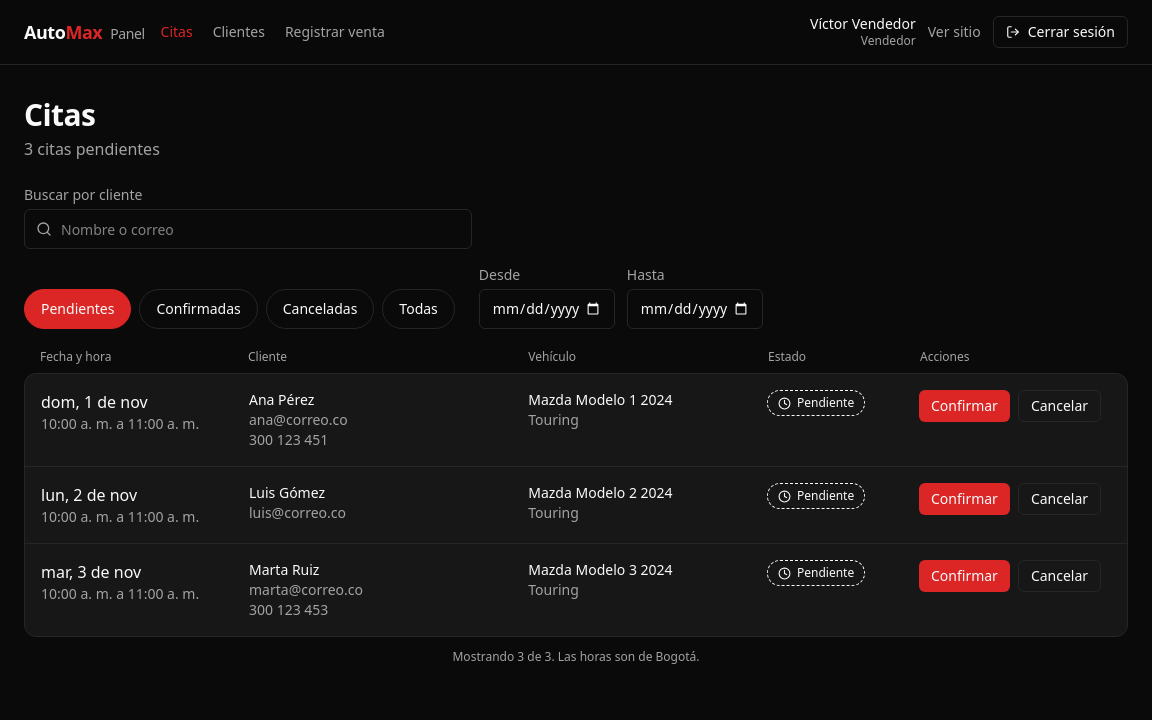
Scenario: lista de citas › búsqueda por cliente › con menos de 3 caracteres no consulta y avisa; con 3 sí
Expected: the list named "Citas" is shown, [24,373,1128,637]
In the search field labelled "Buscar por cliente": (248, 229) [24,209,472,249], type "an"
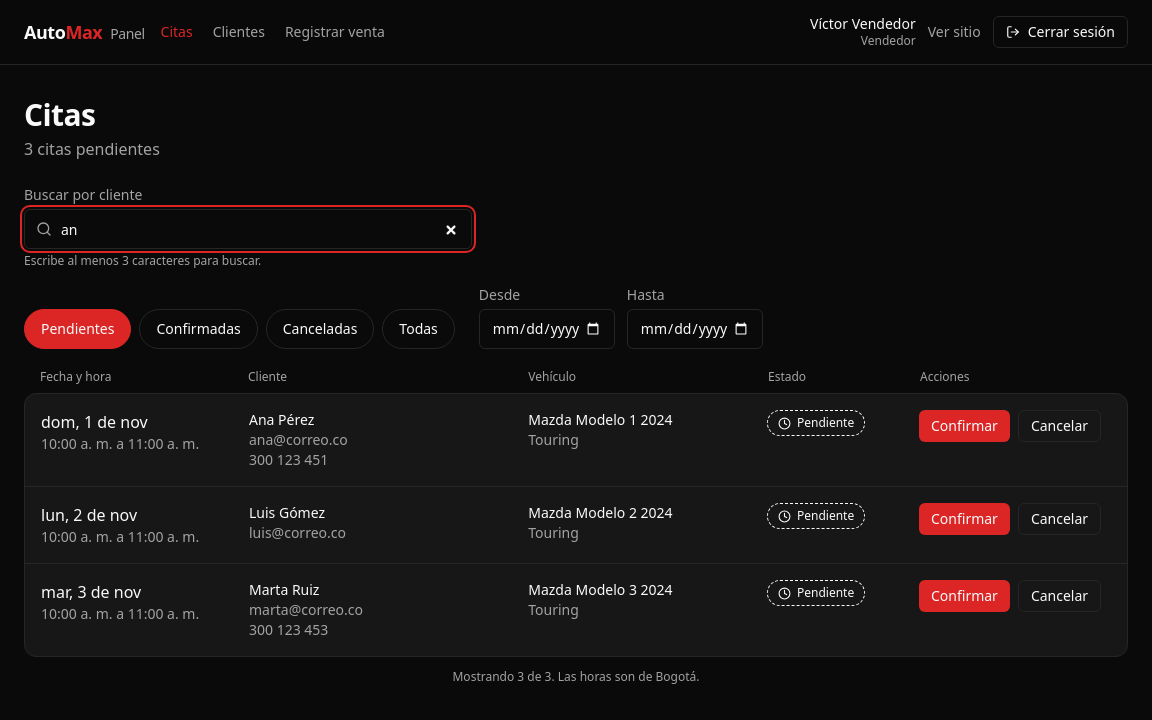
Expected: the text "Escribe al menos 3 caracteres para buscar." is shown, [24,252,261,269]
In the search field labelled "Buscar por cliente": (248, 229) [24,209,472,249], type "a"
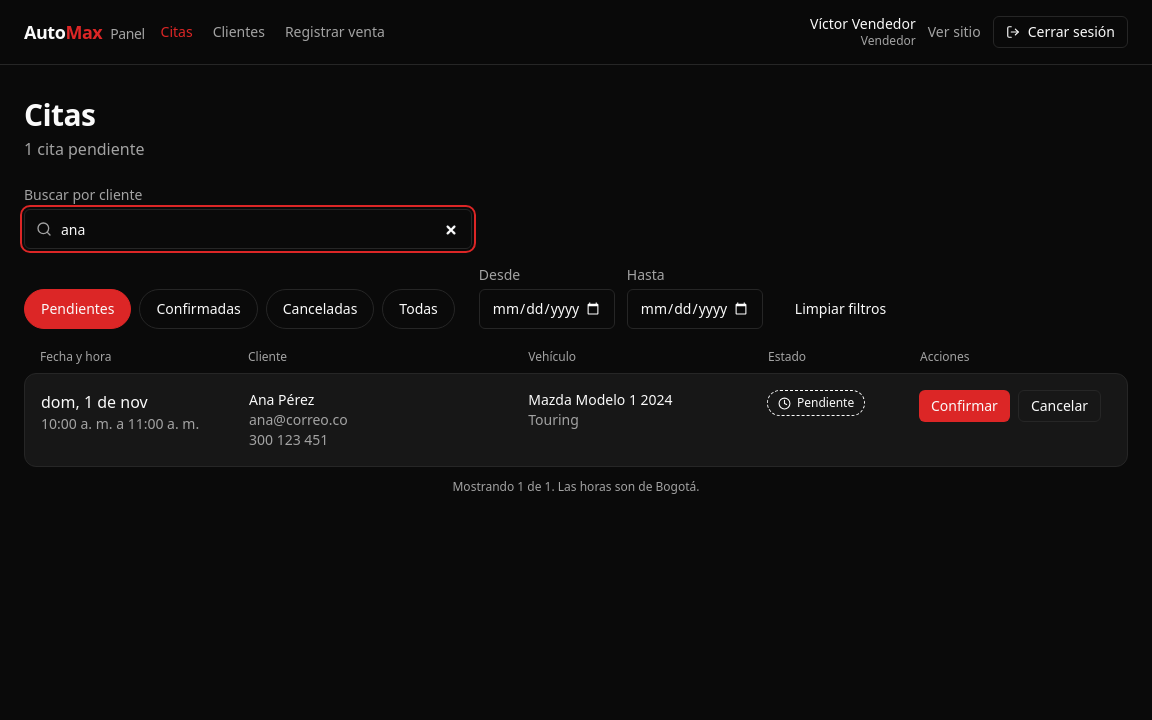
Expected: the text "Escribe al menos 3 caracteres para buscar." is gone
